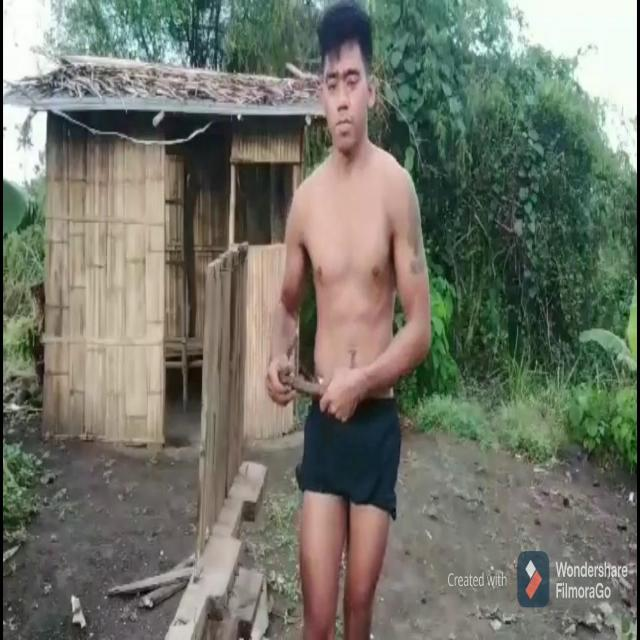hammer: (275, 363, 330, 400)
